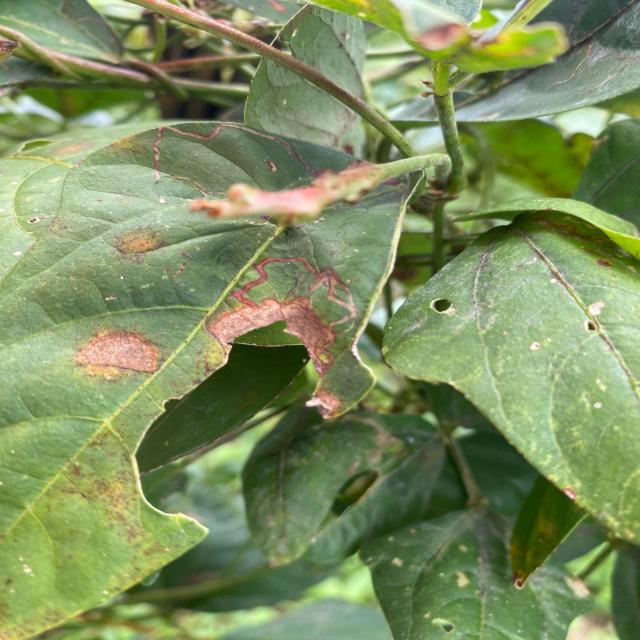leaf-moderate: (0, 121, 409, 640)
sitaw-aphid-high: (382, 198, 640, 545), (369, 508, 591, 640)
sitaw-aphid-low: (263, 411, 443, 565)
